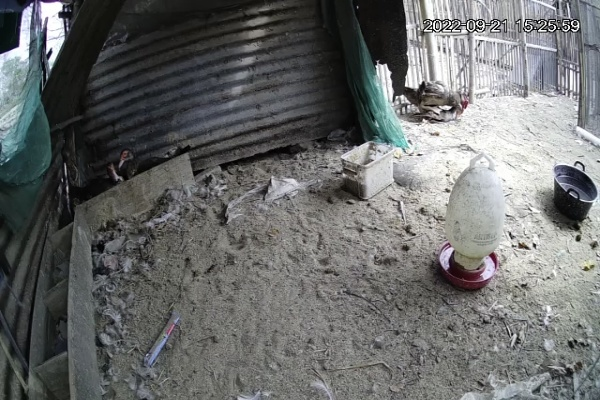Kawin: (396, 72, 479, 127)
